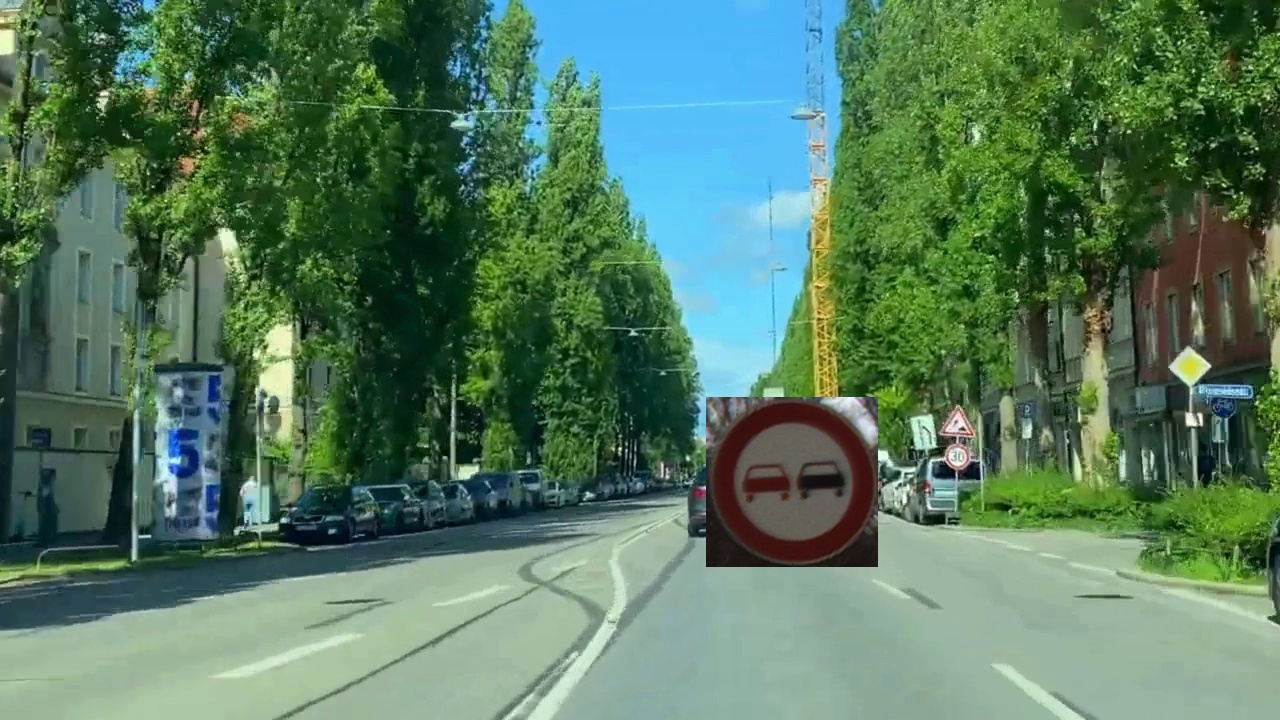No passing: (706, 397, 878, 567)
